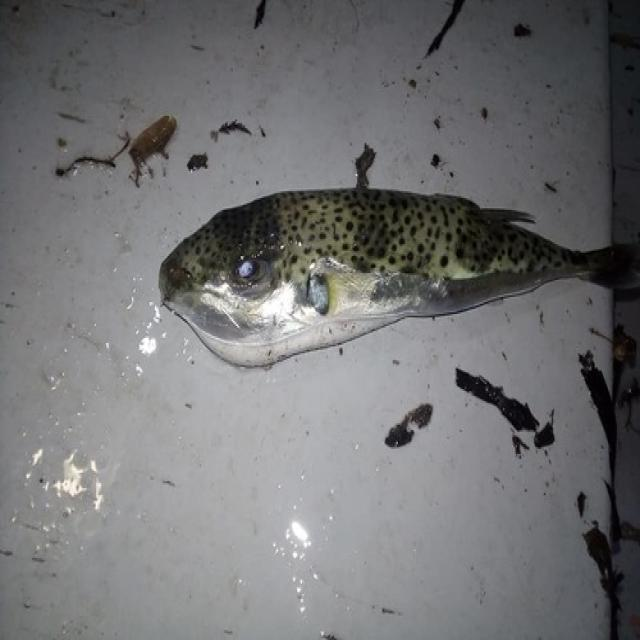Balik: (160, 190, 639, 366)
